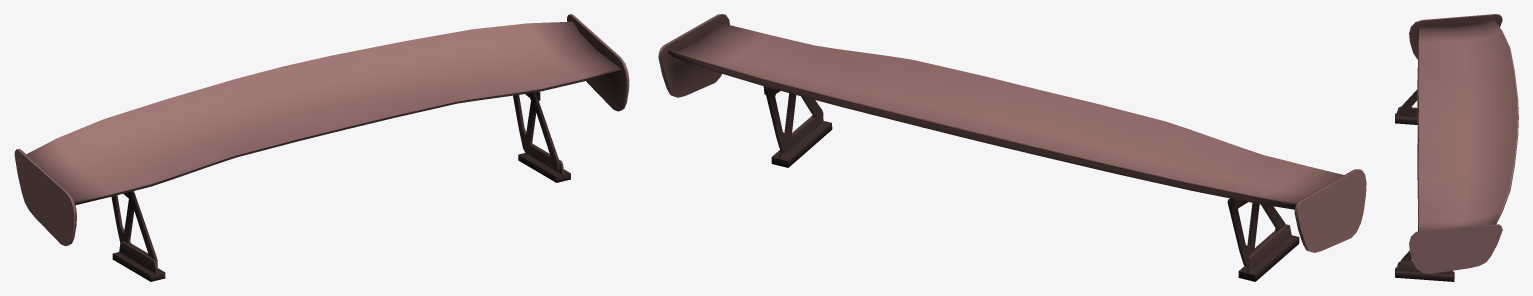
The model's file is Viper_Spoiler_04_Trim.fbx.
3 views of the same model, side by side, from view 1: azimuth 30°, elevation 25°; view 2: azimuth 150°, elevation 25°; view 3: azimuth 270°, elevation 25° (orthographic). The views are drawn at different scales.
Parts seen in each view (by area): view 1: Viper_Spoiler_04_Trim; view 2: Viper_Spoiler_04_Trim; view 3: Viper_Spoiler_04_Trim.
Part boxes in pixels (x1,y1,x2,y2): Viper_Spoiler_04_Trim: (14, 14, 629, 281); Viper_Spoiler_04_Trim: (658, 14, 1366, 281); Viper_Spoiler_04_Trim: (1395, 14, 1518, 281).
Size of the model in its own units: 156 by 30.04 by 38.58.
